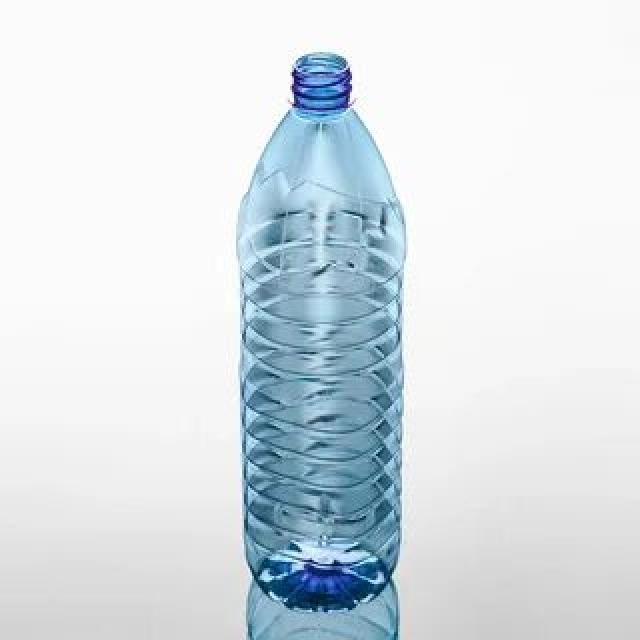blue: (240, 50, 405, 612)
